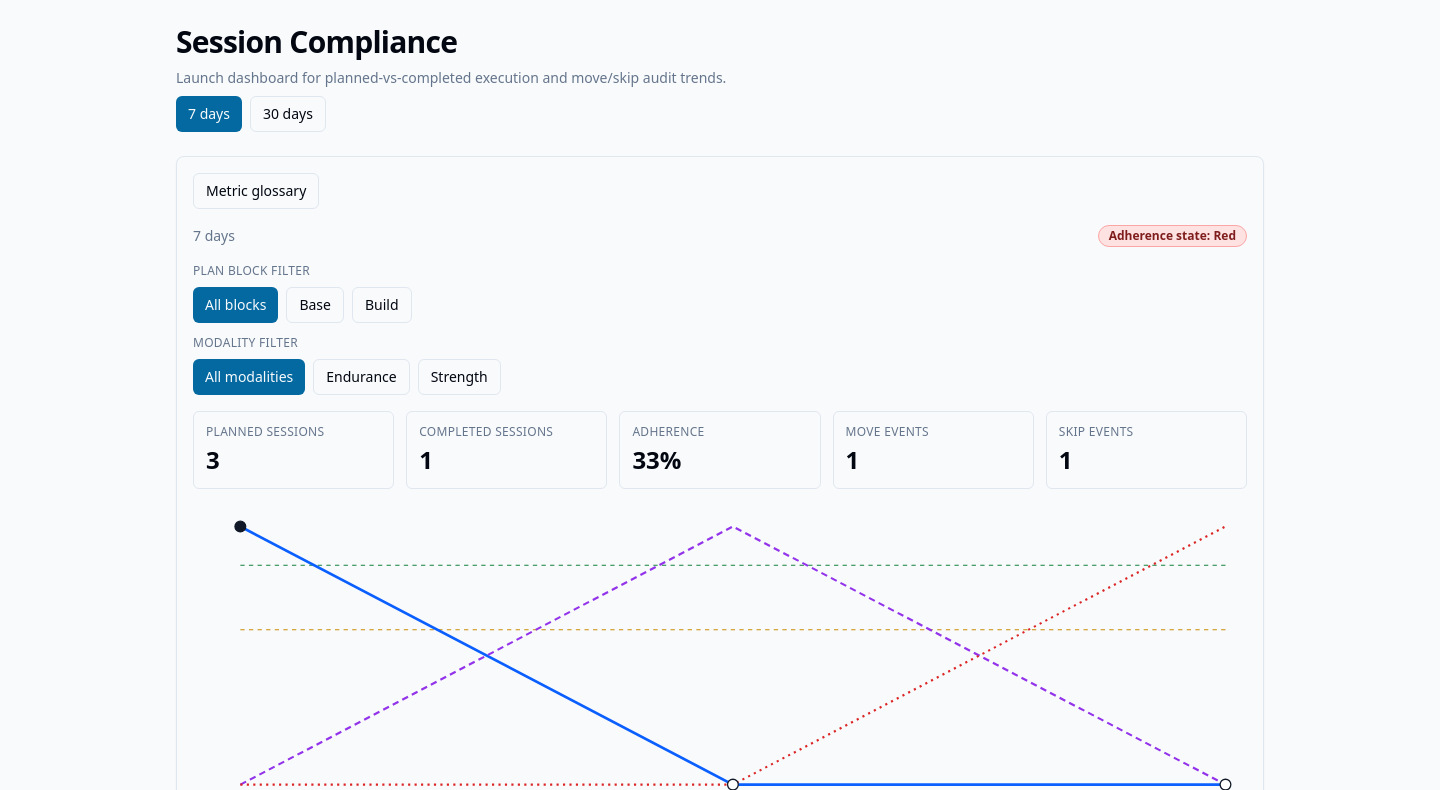
Test: SessionComplianceDashboard › provides contextual metric glossary access
This screenshot has width=1440, height=790.
Click the button "Metric glossary".
click(256, 191)  # box [193,173,319,209]
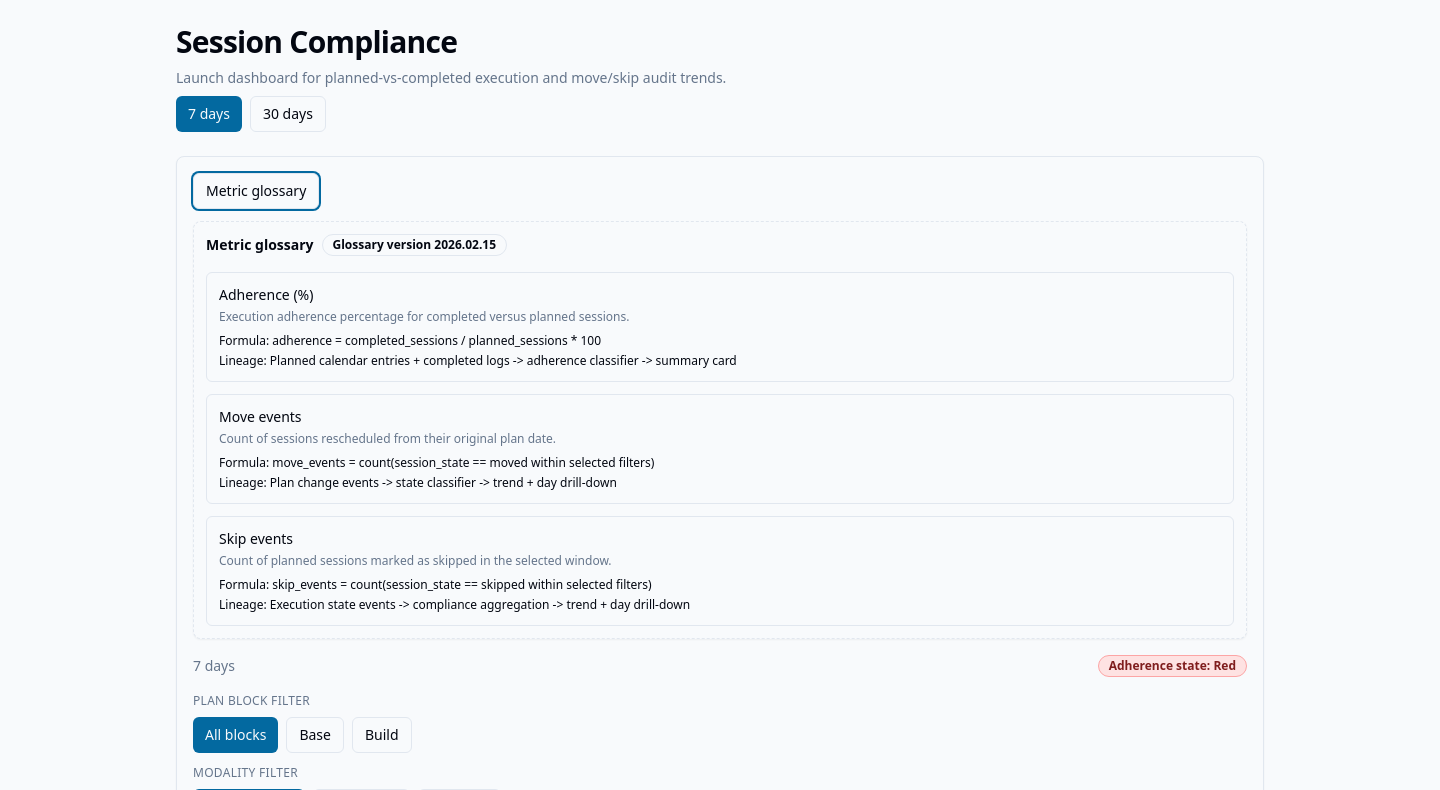
Expected: the text "Glossary version 2026.02.15" is shown, [322,234,507,256]
Expected: the text "Adherence (%)" is shown, [219,285,314,304]
Expected: the text "Move events" is shown, [219,407,302,426]
